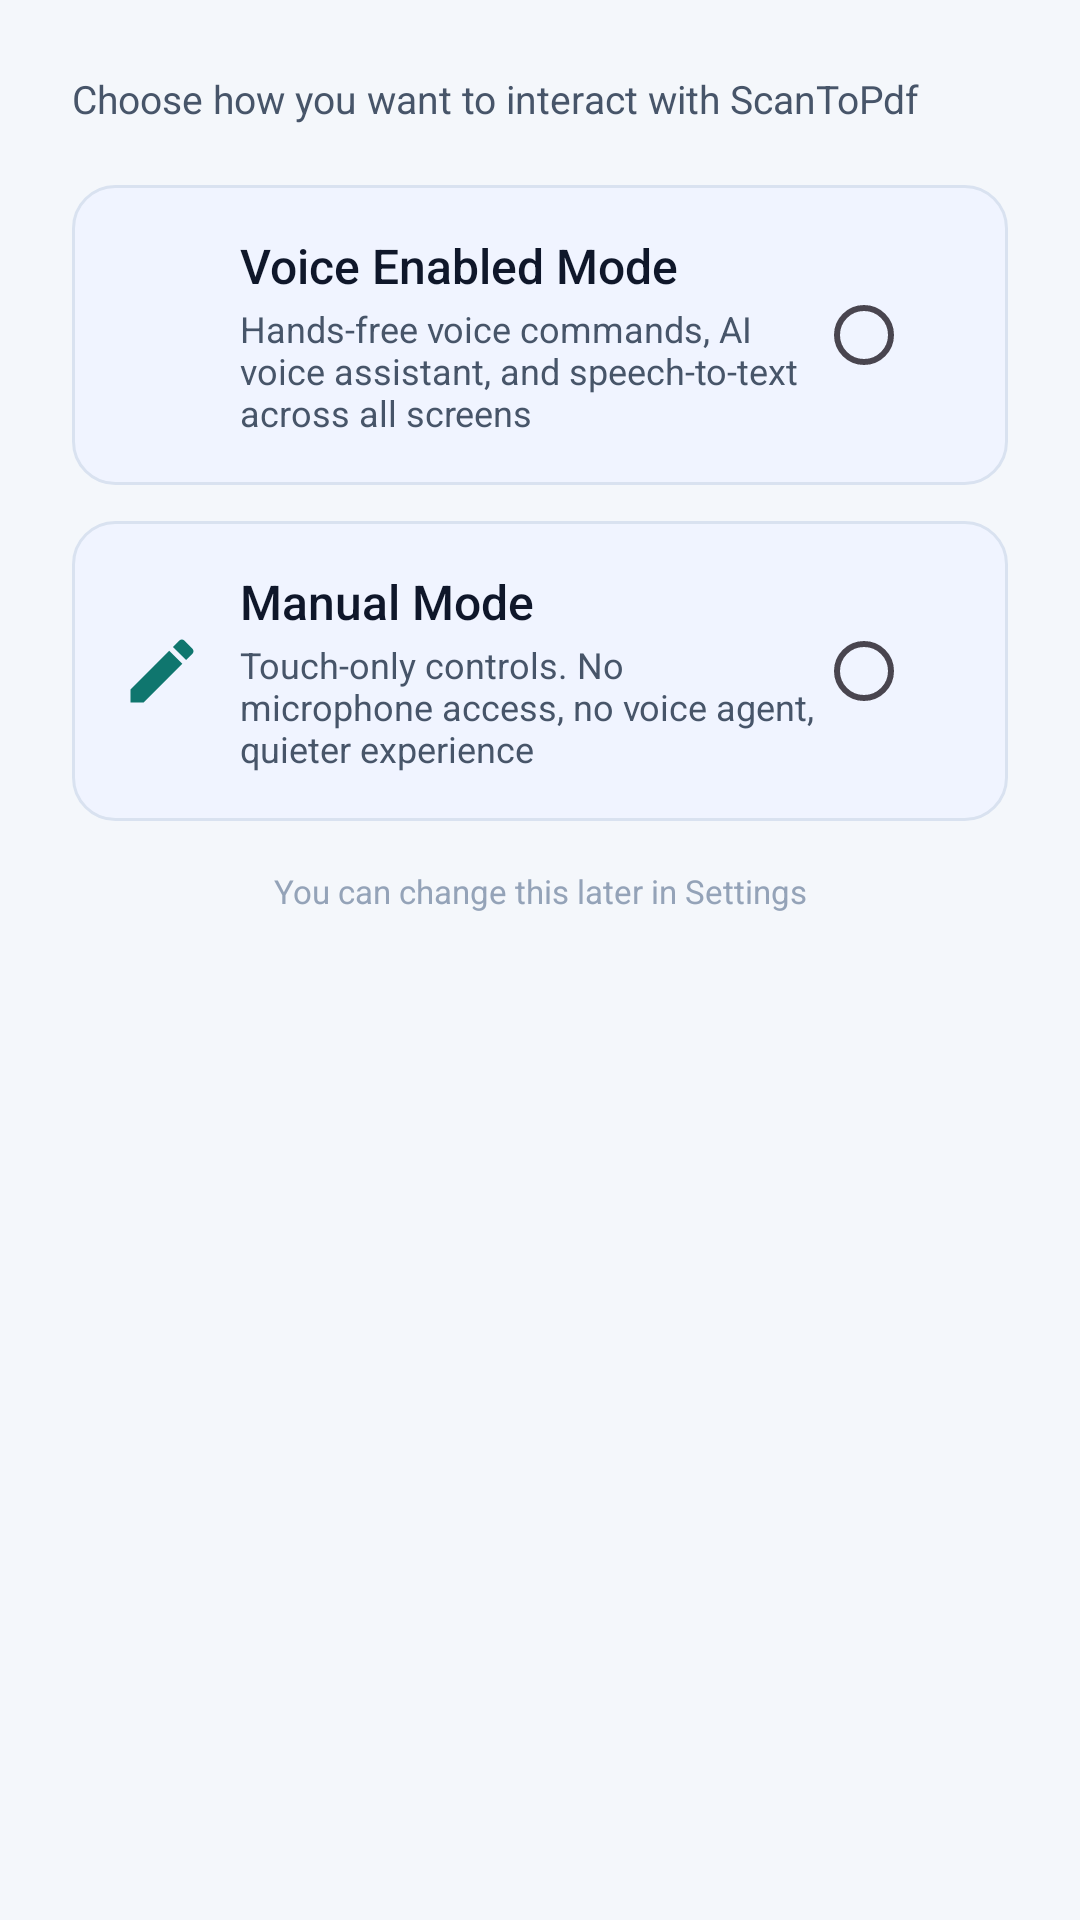

Locate icon controls on the screen. Image size 1080×1920, boxes as [x1,y1,x2,y2].
edit: [130,639,194,703]
